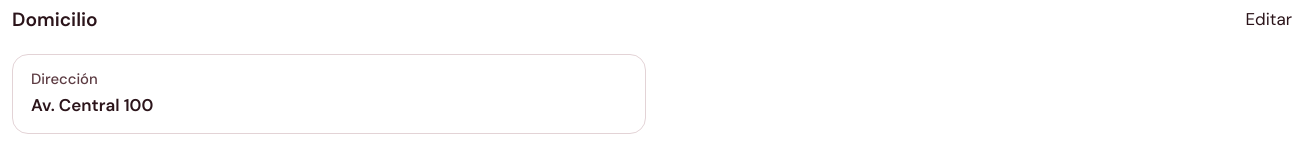
Test: DataSection: scroll accesible al editar › al cancelar regresa al scroll exacto previo en paralelo con el colapso y devuelve el foco a Editar
Later steps or results of the test are not shown.
(page scrolled)
Click the button with aria-label "Editar domicilio" at (1269, 20), box [1246,7,1292,33]
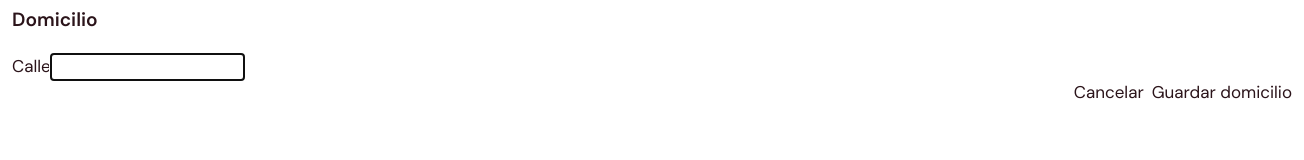
Click the button "Cancelar" at (1109, 92), box [1074,80,1144,105]
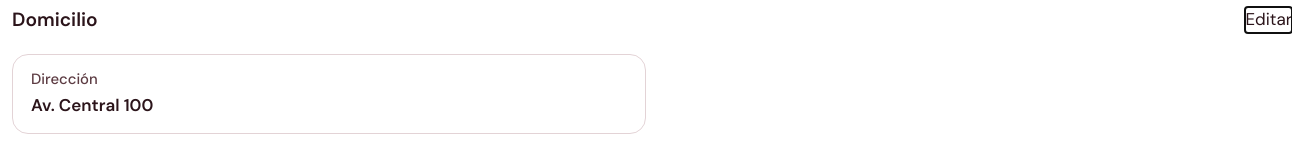
Expected: the label labelled "Calle" is gone
